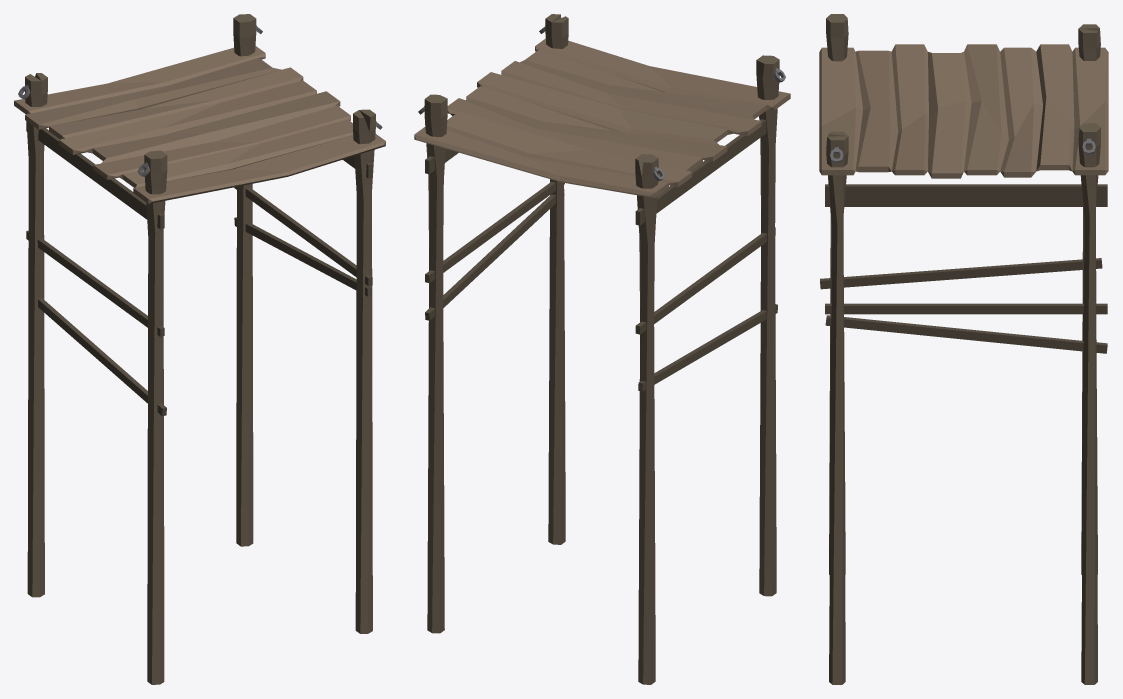
Rendered from SM_Bld_Dock_01.glb.
The picture shows the model from 3 angles, left to right: view 1: azimuth 30°, elevation 25°; view 2: azimuth 150°, elevation 25°; view 3: azimuth 270°, elevation 25°; orthographic projection. The views are drawn at different scales.
Visible parts, largest first — view 1: node_id4; view 2: node_id4; view 3: node_id4.
Boxes of the visible parts, x1=… form: node_id4: x1=14, y1=14, x2=385, y2=684; node_id4: x1=414, y1=14, x2=790, y2=684; node_id4: x1=819, y1=14, x2=1108, y2=684.
Bounding box in the file's own units: 0.2545 × 0.512 × 0.2414.
Materials: 1 (1 with a texture image).
